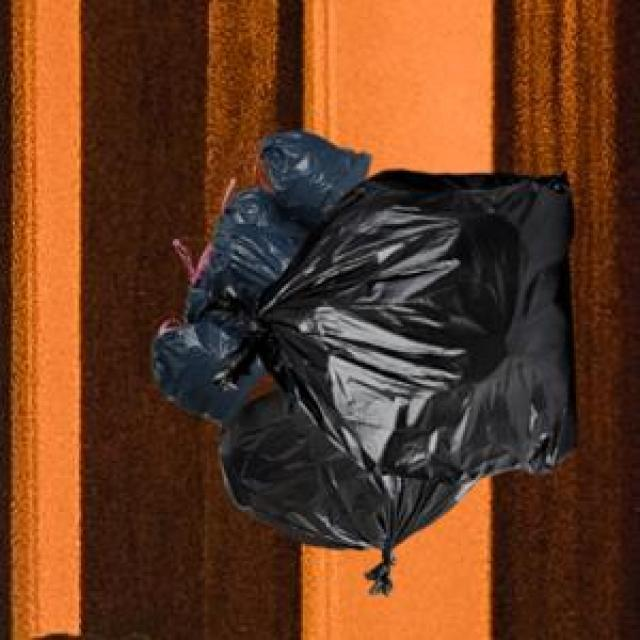Vinyl: (155, 132, 572, 592)
